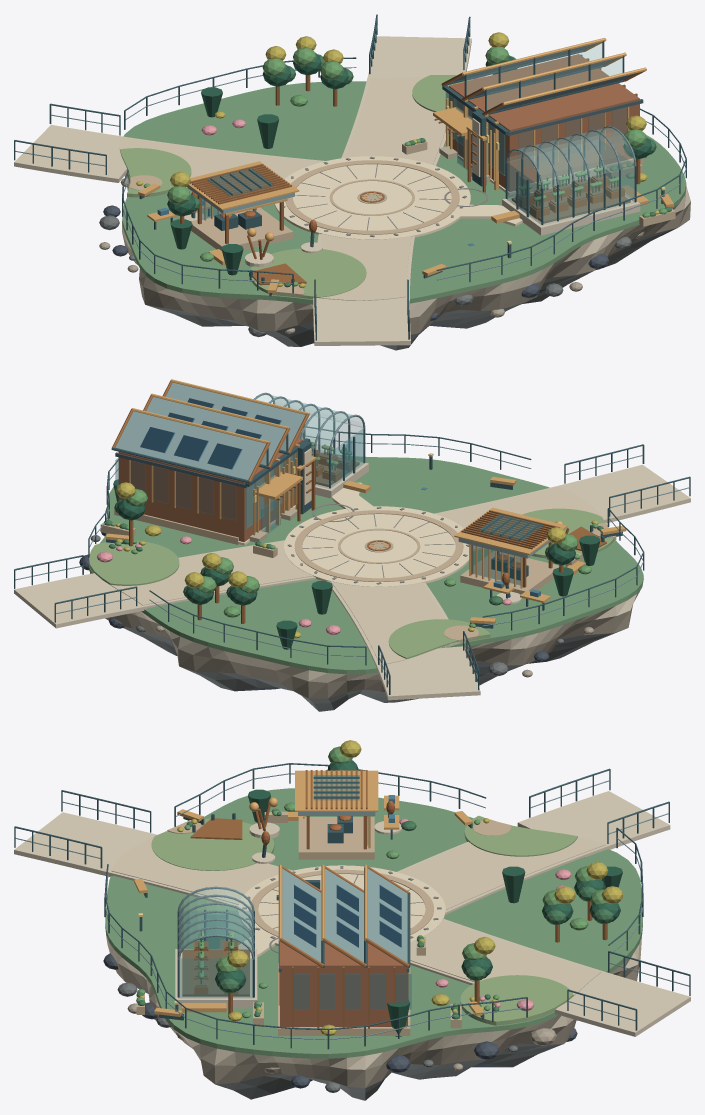
Rendered from C_IndustryYouth_V2_DesignReference.glb.
The picture shows the model from 3 angles, top to bottom: view 1: azimuth 30°, elevation 25°; view 2: azimuth 150°, elevation 25°; view 3: azimuth 270°, elevation 25°; orthographic projection. The views are drawn at different scales.
Parts seen in each view (by area): view 1: grass, stone_cream, path, warmbrick, glass_light, stone_bright, steel, woodlight, grass_light, terrace, cliff_light, wood (+13 smaller); view 2: grass, stone_cream, stone_bright, path, roof_light, steel, warmbrick, woodlight, grass_light, terrace, cliff_light, glass_shadow (+15 smaller); view 3: grass, stone_cream, path, grass_light, steel, warmbrick, terrace, roof_light, cliff_light, woodlight, wood, glass_shadow (+13 smaller).
Boxes of the visible parts, x1,y1,x2,y2 form: grass: (122, 81, 686, 304); stone_cream: (14, 36, 690, 345); path: (119, 76, 445, 300); warmbrick: (449, 54, 639, 191); glass_light: (467, 42, 634, 225); stone_bright: (274, 118, 522, 239); steel: (14, 14, 686, 340); woodlight: (138, 38, 673, 293); grass_light: (120, 75, 473, 299); terrace: (129, 141, 675, 297); cliff_light: (99, 177, 690, 334); wood: (180, 41, 645, 285); grass: (89, 454, 643, 674); stone_cream: (14, 452, 690, 700); stone_bright: (238, 448, 474, 586); path: (104, 487, 601, 665); roof_light: (115, 382, 550, 558); steel: (14, 417, 690, 694); warmbrick: (118, 438, 302, 542); woodlight: (106, 379, 626, 624); grass_light: (89, 508, 614, 658); terrace: (100, 429, 616, 642); cliff_light: (105, 512, 632, 698); glass_shadow: (115, 440, 542, 585); grass: (105, 788, 642, 1058); stone_cream: (14, 791, 690, 1069); path: (111, 837, 605, 1007); grass_light: (151, 815, 577, 1025); steel: (14, 763, 690, 1049); warmbrick: (280, 941, 407, 1026); terrace: (136, 812, 511, 1035); roof_light: (282, 812, 407, 962); cliff_light: (108, 948, 640, 1088); woodlight: (134, 770, 484, 1016); wood: (190, 770, 607, 1028); glass_shadow: (206, 775, 411, 1009).
Bounding box in the file's own units: 29.87 × 11.54 × 31.98.
